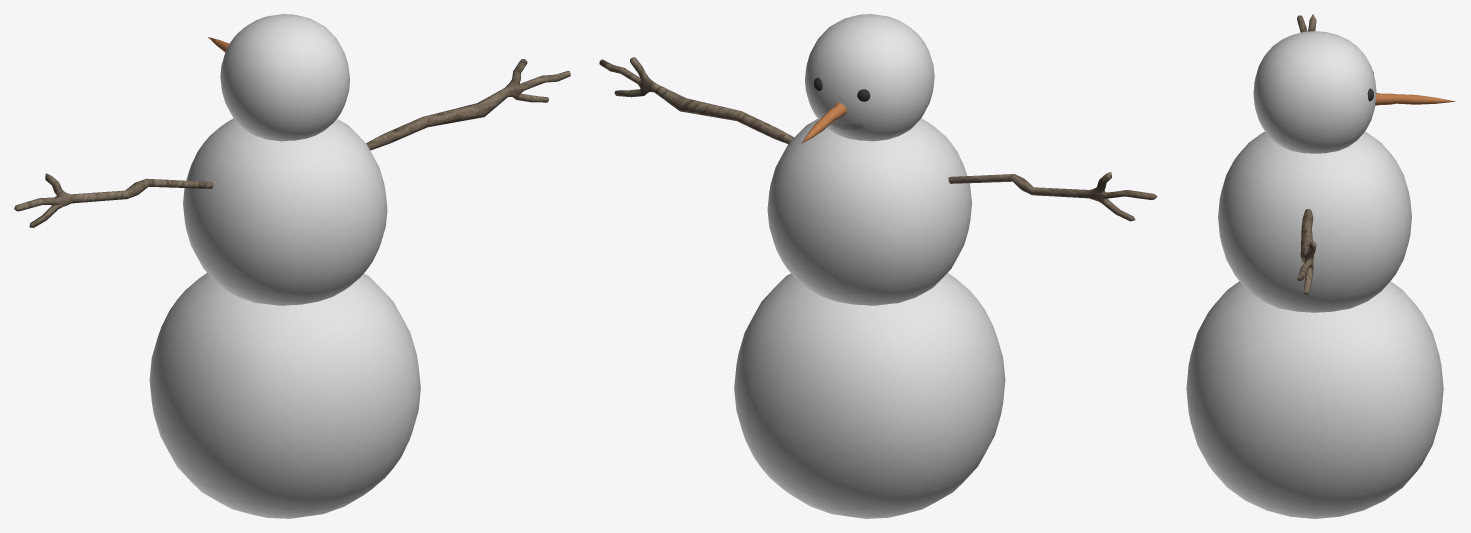
Rendered from snowman.fbx.
The picture shows the model from 3 angles, left to right: view 1: azimuth 30°, elevation 25°; view 2: azimuth 150°, elevation 25°; view 3: azimuth 270°, elevation 25°; orthographic projection. The views are drawn at different scales.
Parts seen in each view (by area): view 1: snowman.lod0; view 2: snowman.lod0; view 3: snowman.lod0.
Part boxes in pixels (left/top/right/bottom): snowman.lod0: left=14, top=14, right=570, bottom=518; snowman.lod0: left=599, top=14, right=1157, bottom=518; snowman.lod0: left=1186, top=14, right=1455, bottom=518.
Size of what is drawn, in the model's own units: 636 by 528 by 276.
